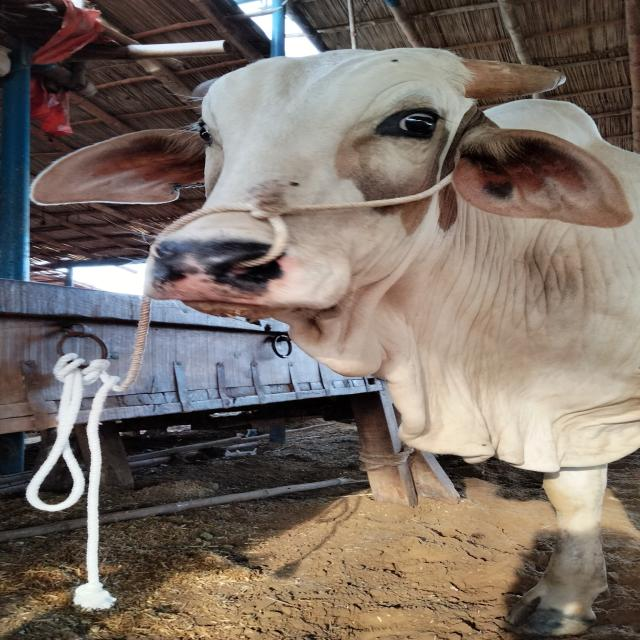muzzles: (133, 234, 290, 307)
